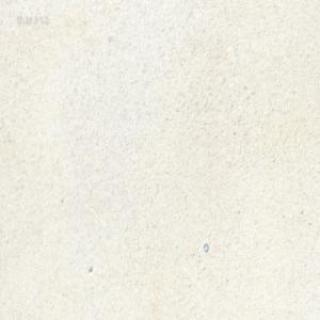Washertrack_idkeyframe: (202, 242, 208, 252)
